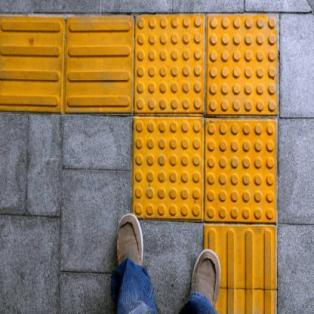Podoctatil: (0, 15, 277, 314)
